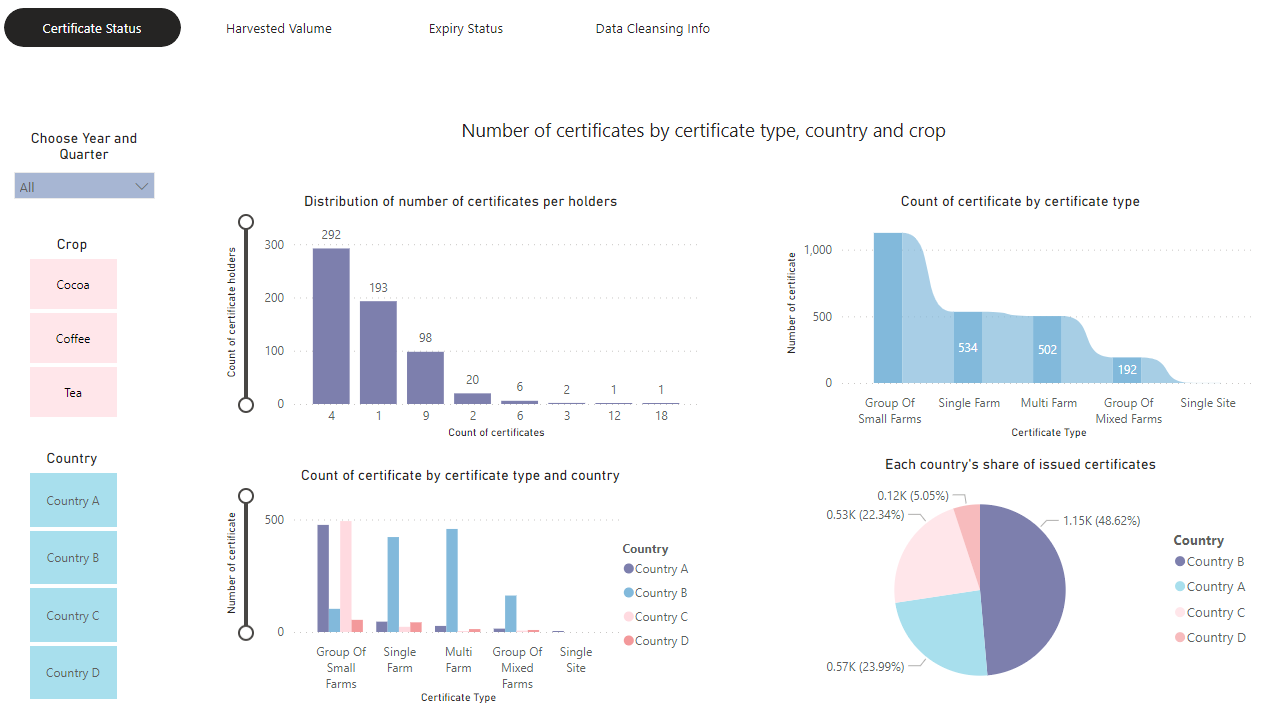

Layout of this report page (visuals, bound fields, positions):
{"tool":"powerbi","page":{"name":"Certificate Status","canvas":[1280,720],"ordinal":0},"visuals":[{"type":"ribbonChart","title":"Count of certificate by certificate type","fields":{"Category":["MergeValidateTables.Certificate Type"],"Y":["CountNonNull(MergeValidateTables.Certificate Type)"]},"box":[781,193,480,250],"z":0},{"type":"clusteredColumnChart","title":"Count of certificate by certificate type and country","fields":{"Category":["MergeValidateTables.Certificate Type"],"Series":["MergeValidateTables.Country"],"Y":["CountNonNull(MergeValidateTables.Certificate Type)"]},"box":[218,467,486,241],"z":1000},{"type":"clusteredColumnChart","title":"Distribution of number of certificates per holders","fields":{"Y":["CountNonNull(DistributionOfCertificatesPerHolder.Certificate Holder ID)"],"Category":["DistributionOfCertificatesPerHolder.Count"]},"box":[218,193,486,250],"z":2000},{"type":"textbox","box":[260,112,888,36],"z":3000},{"type":"slicer","title":"Choose Year and Quarter","fields":{"Values":["MergeValidateTables.Certificate start date.Variation.Date Hierarchy.Year","MergeValidateTables.Certificate start date.Variation.Date Hierarchy.Quarter"]},"box":[4,130,161,82],"z":4000},{"type":"slicer","title":"Country","fields":{"Values":["MergeValidateTables.Country"]},"box":[4,450,137,256],"z":5000},{"type":"slicer","title":"Crop","fields":{"Values":["MergeValidateTables.Crop"]},"box":[4,236,137,188],"z":6000},{"type":"pageNavigator","box":[4,8,740,39],"z":7000},{"type":"pieChart","title":"Each country''s share of issued certificates","fields":{"Category":["MergeValidateTables.Country"],"Y":["CountNonNull(MergeValidateTables.Certificate Holder ID)"]},"box":[781,456,480,252],"z":8000}]}

Visuals, with their boxes in screenshot pixels (x1, y1, x2, y2), scaled from the page's 1280x720 canvas onto the 1276x717 screenshot:
"Count of certificate by certificate type" ribbonChart: detection(779, 192, 1257, 441)
"Count of certificate by certificate type and country" clusteredColumnChart: detection(217, 465, 702, 705)
"Distribution of number of certificates per holders" clusteredColumnChart: detection(217, 192, 702, 441)
textbox: detection(259, 112, 1144, 147)
"Choose Year and Quarter" slicer: detection(4, 129, 164, 211)
"Country" slicer: detection(4, 448, 141, 703)
"Crop" slicer: detection(4, 235, 141, 422)
pageNavigator: detection(4, 8, 742, 47)
"Each country''s share of issued certificates" pieChart: detection(779, 454, 1257, 705)
